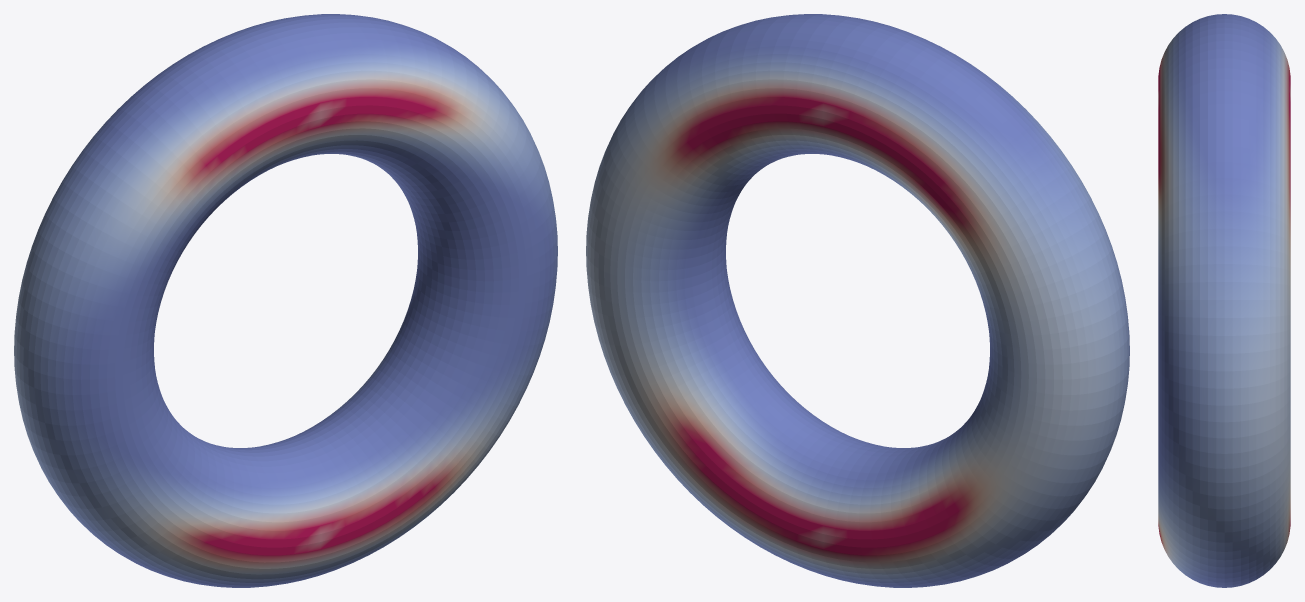
The picture shows the model from 3 angles, left to right: view 1: azimuth 30°, elevation 25°; view 2: azimuth 150°, elevation 25°; view 3: azimuth 270°, elevation 25°; orthographic projection. The views are drawn at different scales.
Parts seen in each view (by area): view 1: world; view 2: world; view 3: world.
Boxes of the visible parts, bbox=[...] form: world: bbox=[14, 14, 557, 587]; world: bbox=[586, 14, 1129, 587]; world: bbox=[1158, 14, 1290, 587].
Bounding box in the file's own units: 19.07 × 19.07 × 4.39.
